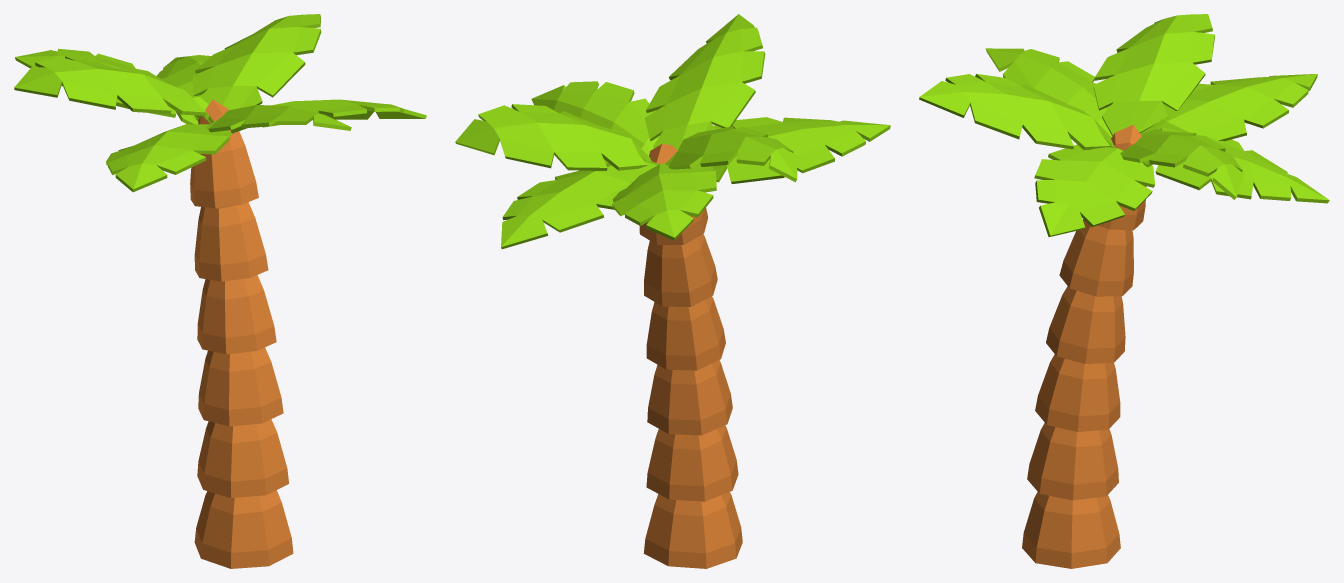
The model's file is PalmTree3.fbx.
The picture shows the model from 3 angles, left to right: view 1: azimuth 30°, elevation 25°; view 2: azimuth 150°, elevation 25°; view 3: azimuth 270°, elevation 25°; orthographic projection.
Parts seen in each view (by area): view 1: Trunk, Leaf7, Leaf6, Leaf3, Leaf4, Leaf5, Leaf1, Leaf2; view 2: Trunk, Leaf4, Leaf7, Leaf2, Leaf3, Leaf1, Leaf5, Leaf6; view 3: Trunk, Leaf6, Leaf5, Leaf4, Leaf1, Leaf3, Leaf2, Leaf7.
Boxes of the visible parts, <box> form: Trunk: <box>190,99,293,568</box>; Leaf7: <box>192,14,321,110</box>; Leaf6: <box>14,56,213,123</box>; Leaf3: <box>106,124,231,192</box>; Leaf4: <box>205,105,351,132</box>; Leaf5: <box>230,99,426,133</box>; Leaf1: <box>15,48,198,124</box>; Leaf2: <box>156,55,210,121</box>; Trunk: <box>639,144,742,568</box>; Leaf4: <box>644,14,765,149</box>; Leaf7: <box>455,104,651,170</box>; Leaf2: <box>501,161,659,249</box>; Leaf3: <box>712,117,890,183</box>; Leaf1: <box>612,162,716,240</box>; Leaf5: <box>531,81,659,163</box>; Leaf6: <box>665,126,797,182</box>; Trunk: <box>1022,125,1146,568</box>; Leaf6: <box>1093,14,1214,135</box>; Leaf5: <box>1034,144,1154,236</box>; Leaf4: <box>919,74,1115,150</box>; Leaf1: <box>1140,74,1317,141</box>; Leaf3: <box>985,48,1112,137</box>; Leaf2: <box>1141,127,1329,203</box>; Leaf7: <box>1120,131,1244,199</box>.
Size of the model in its own units: 683 by 915 by 721.
